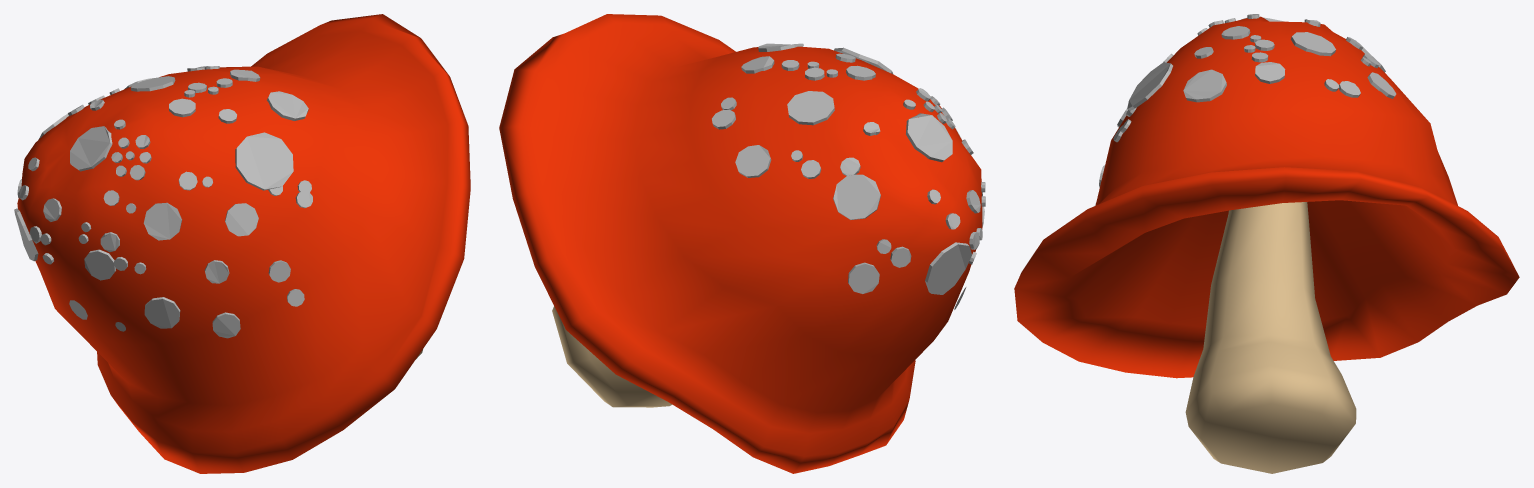
The model's file is Mushroom-3.fbx.
3 views of the same model, side by side, from view 1: azimuth 30°, elevation 25°; view 2: azimuth 150°, elevation 25°; view 3: azimuth 270°, elevation 25° (orthographic). The views are drawn at different scales.
Parts seen in each view (by area): view 1: Mushroom; view 2: Mushroom; view 3: Mushroom.
Boxes of the visible parts, left/top/right/bottom form: Mushroom: left=14, top=14, right=470, bottom=473; Mushroom: left=499, top=14, right=985, bottom=473; Mushroom: left=1014, top=14, right=1519, bottom=473.
Size of the model in its own units: 6.87 by 5.82 by 7.45.
